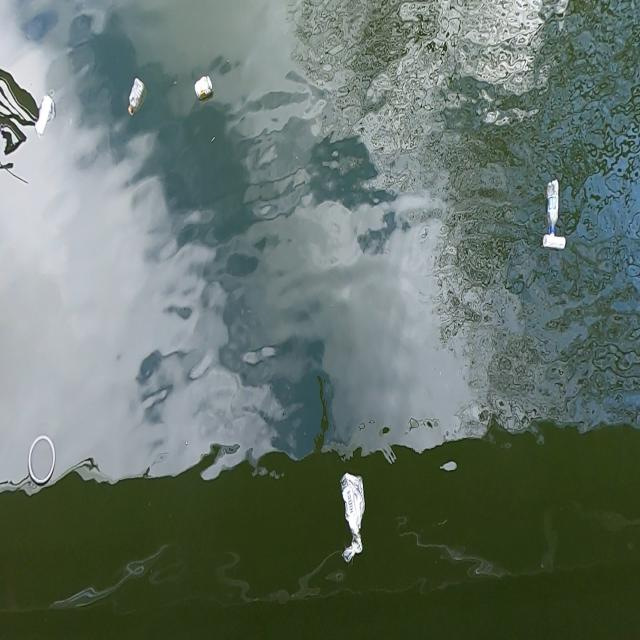Autre plastique: (26, 433, 60, 491)
Bouteille plastique: (544, 176, 563, 237), (125, 72, 148, 120)
Non plastique: (34, 92, 55, 136), (192, 72, 216, 107), (540, 233, 571, 257)
Sac plastique: (336, 464, 369, 576)
